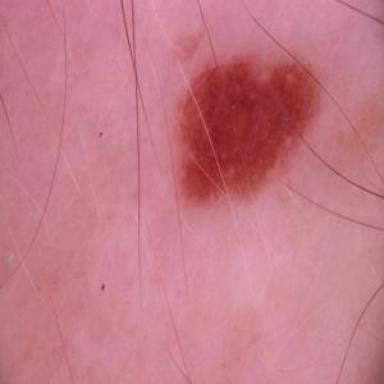Melanoma: (179, 61, 317, 203)
